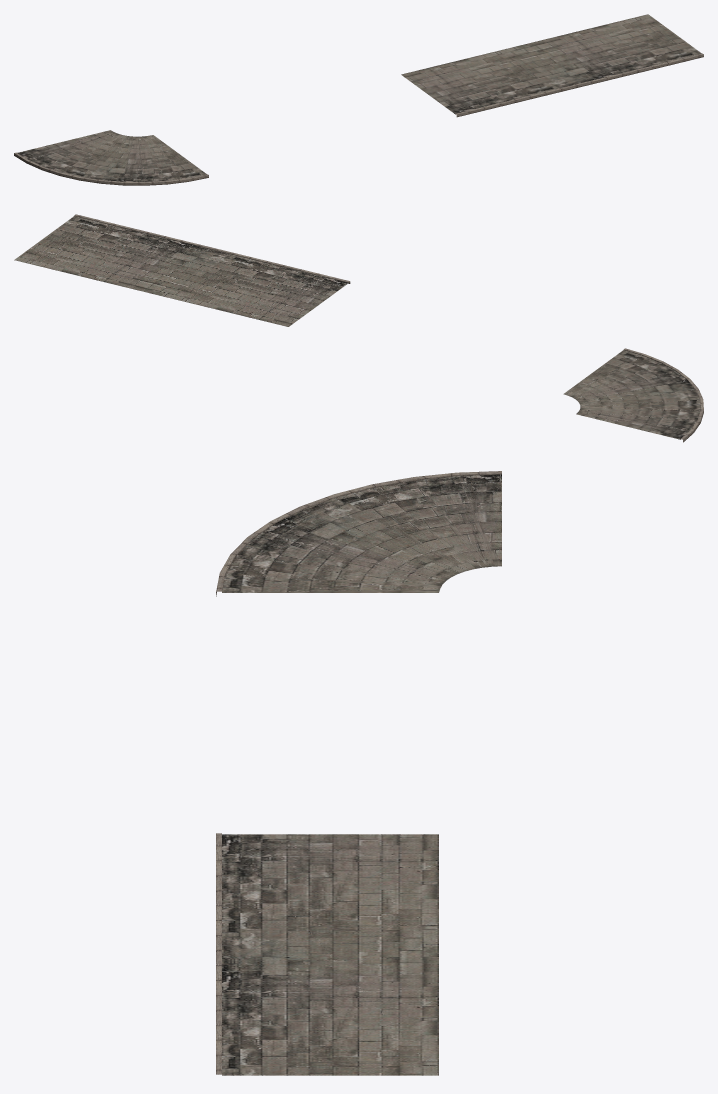
File: StreetParts.fbx
The picture shows the model from 3 angles, top to bottom: view 1: azimuth 30°, elevation 25°; view 2: azimuth 150°, elevation 25°; view 3: azimuth 270°, elevation 25°; orthographic projection. The views are drawn at different scales.
Parts seen in each view (by area): view 1: Street_01, Street_Curve_01; view 2: Street_01, Street_Curve_01; view 3: Street_01, Street_Curve_01.
Boxes of the visible parts, box(x1,y1,x2,y2) form: Street_01: box(401, 14, 703, 117); Street_Curve_01: box(14, 130, 208, 185); Street_01: box(14, 214, 350, 326); Street_Curve_01: box(563, 348, 703, 442); Street_01: box(216, 833, 438, 1075); Street_Curve_01: box(216, 471, 501, 596).
Bounding box in the file's own units: 4559 × 18.24 × 912.
